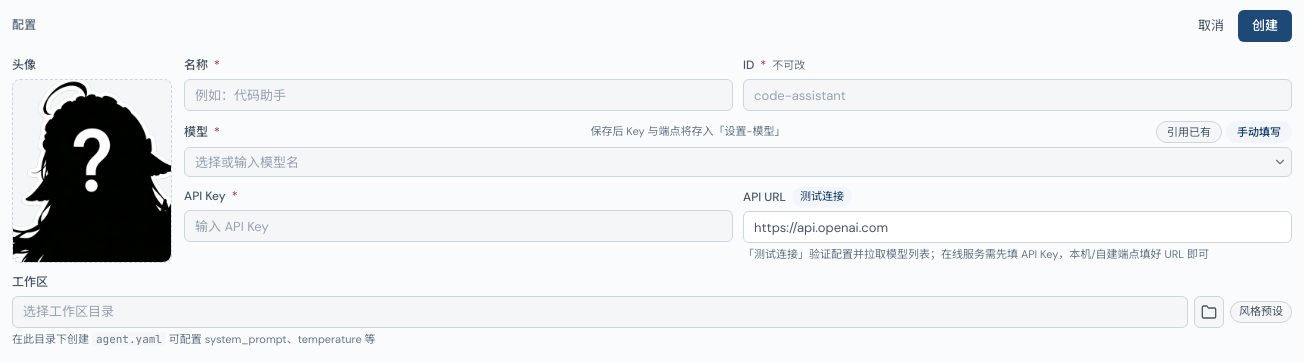
AgentForm 可选可输分组模型选择器 › 测试连接失败：红字展示结构化错误（多端点全败聚合文案）
Click the button with class "conn-btn" at (822, 197), box [792,187,852,207]
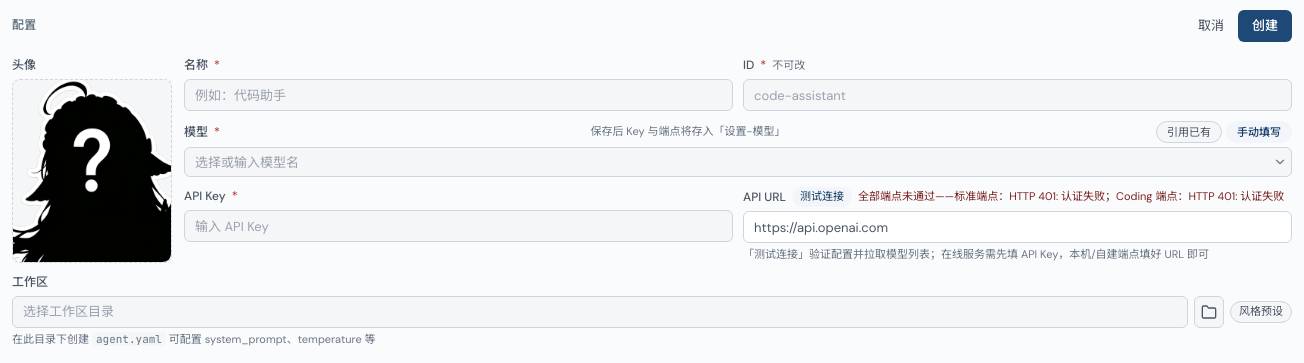
Expected: the text "全部端点未通过——标准端点：HTTP 401: 认证失败；Coding 端点：HTTP 401: 认证失败" is shown, [858,188,1292,206]
Expected: the text with class "conn-err" shows "全部端点未通过", [858,189,1284,203]
